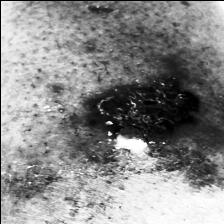Potentially Malignant Skin Tumors: (90, 78, 202, 148)
